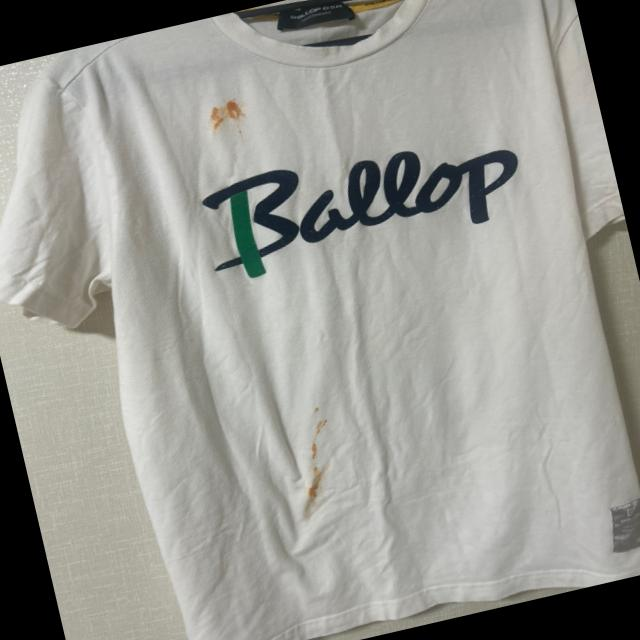stain: (299, 404, 343, 460), (207, 90, 254, 136), (298, 462, 336, 511)
